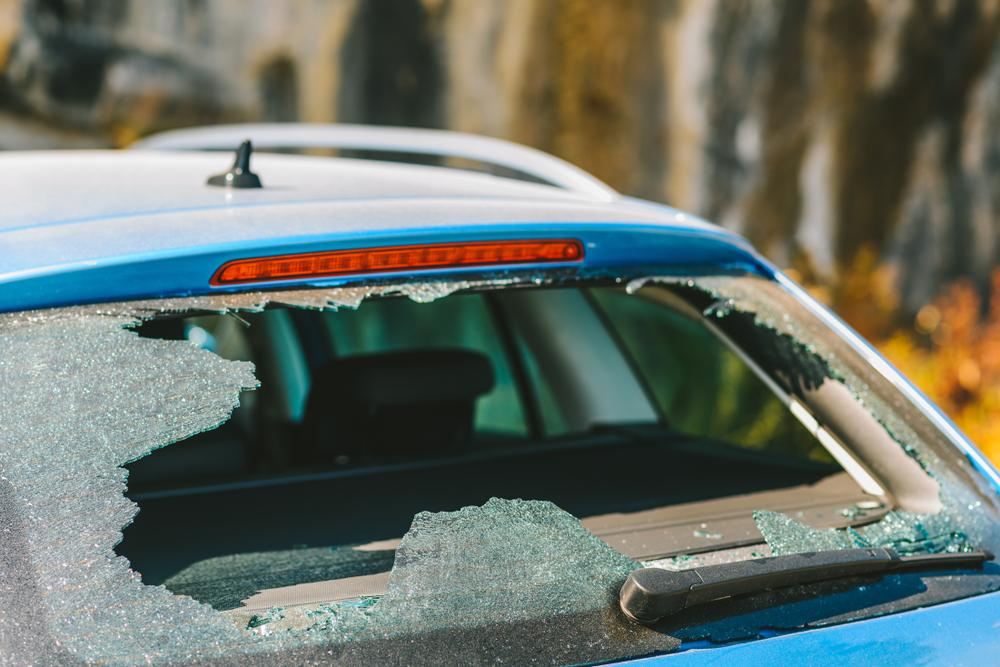glass shatter: (0, 263, 1000, 667)
